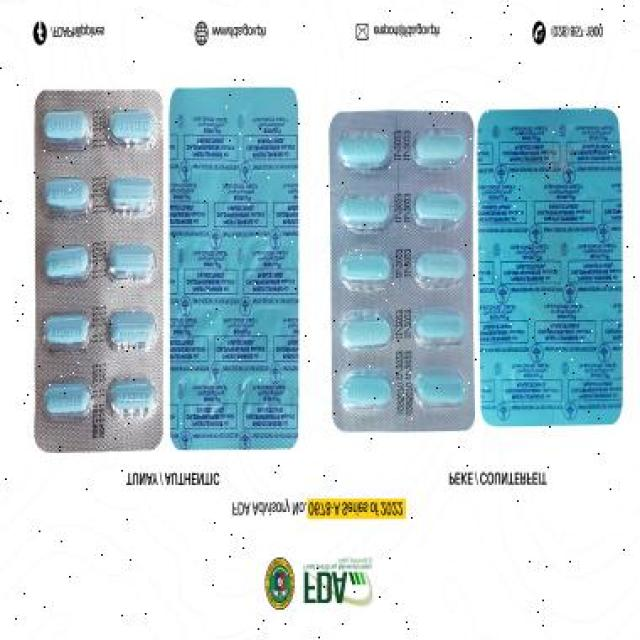Bioflu_Strip: (29, 72, 171, 474), (326, 90, 477, 442)
